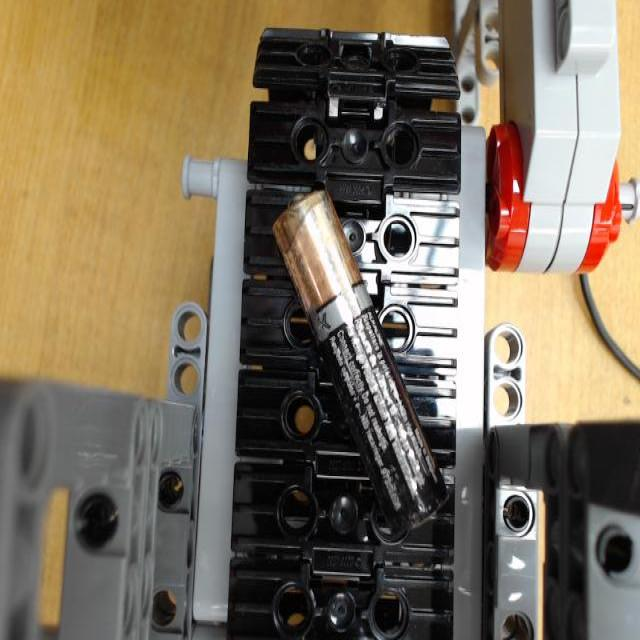AAA: (270, 185, 450, 538)
